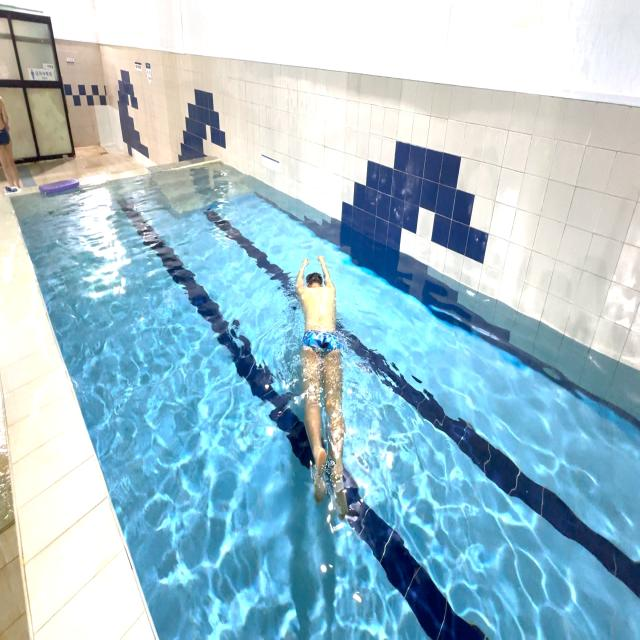Swimming: (279, 237, 359, 538)
